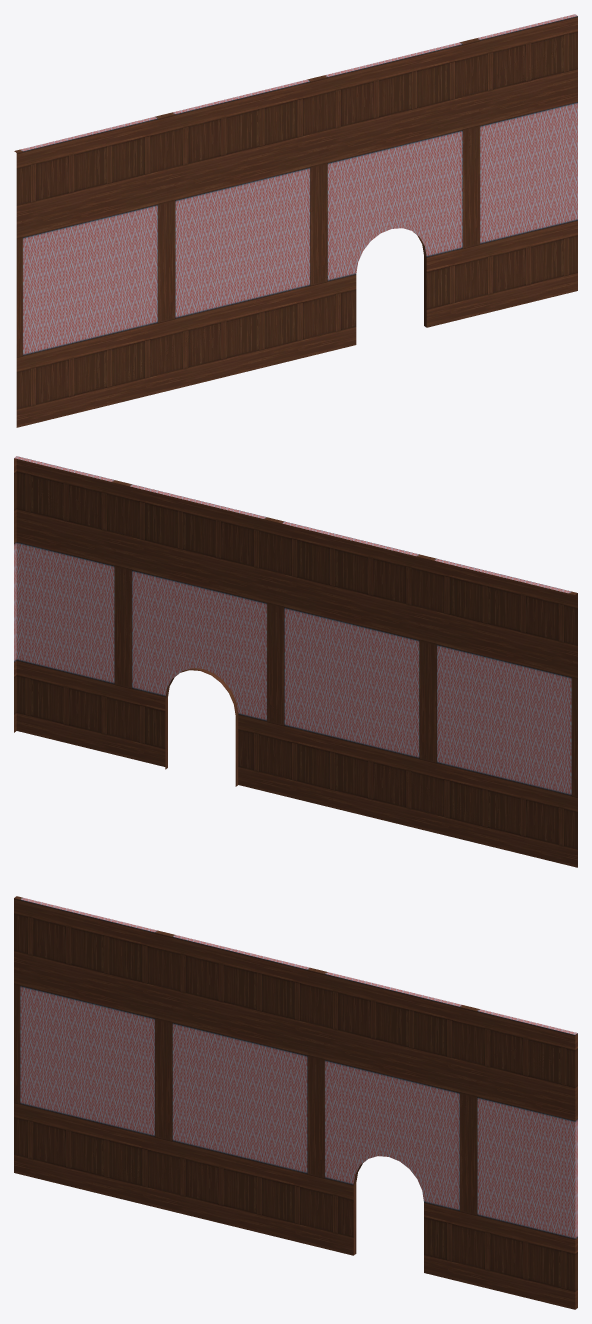
File: MurAvecPorte.fbx
3 views of the same model, one above another, from view 1: azimuth 30°, elevation 25°; view 2: azimuth 150°, elevation 25°; view 3: azimuth 330°, elevation 25° (orthographic).
Parts seen in each view (by area): view 1: MurAvecPorte; view 2: MurAvecPorte; view 3: MurAvecPorte.
Boxes of the visible parts, x1,y1,x2,y2 form: MurAvecPorte: [14, 14, 577, 427]; MurAvecPorte: [14, 456, 577, 867]; MurAvecPorte: [14, 896, 577, 1309].
Bounding box in the file's own units: 1047 × 490 × 8.95.
